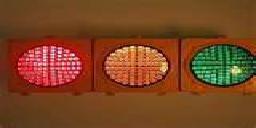LED: (98, 41, 171, 95), (14, 41, 86, 92), (190, 43, 256, 91)
